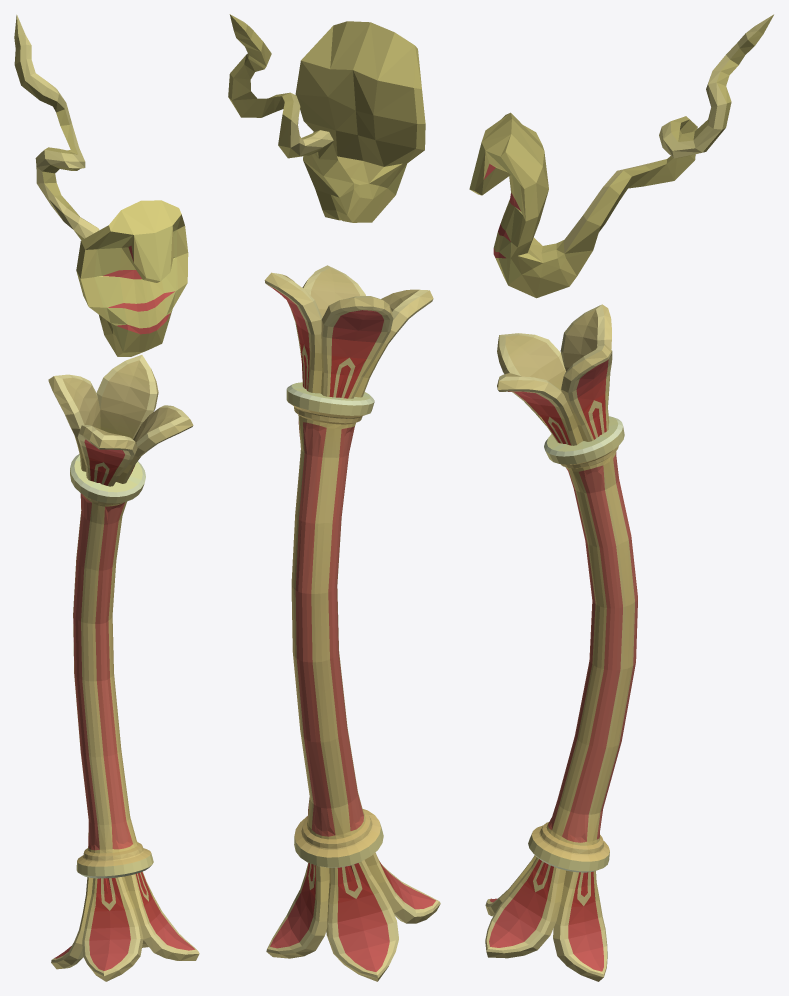
File: smallBowAncientEgyptianHandle.glb
3 views of the same model, side by side, from view 1: azimuth 30°, elevation 25°; view 2: azimuth 150°, elevation 25°; view 3: azimuth 270°, elevation 25° (orthographic). The views are drawn at different scales.
Visible parts, largest first — view 1: smallBowAncientEgyptianHandle; view 2: smallBowAncientEgyptianHandle; view 3: smallBowAncientEgyptianHandle.
Boxes of the visible parts, x1,y1,x2,y2 form: smallBowAncientEgyptianHandle: [14, 14, 199, 981]; smallBowAncientEgyptianHandle: [228, 14, 440, 981]; smallBowAncientEgyptianHandle: [469, 14, 773, 981].
Size of the model in its own units: 0.0883 by 0.6931 by 0.2028.
